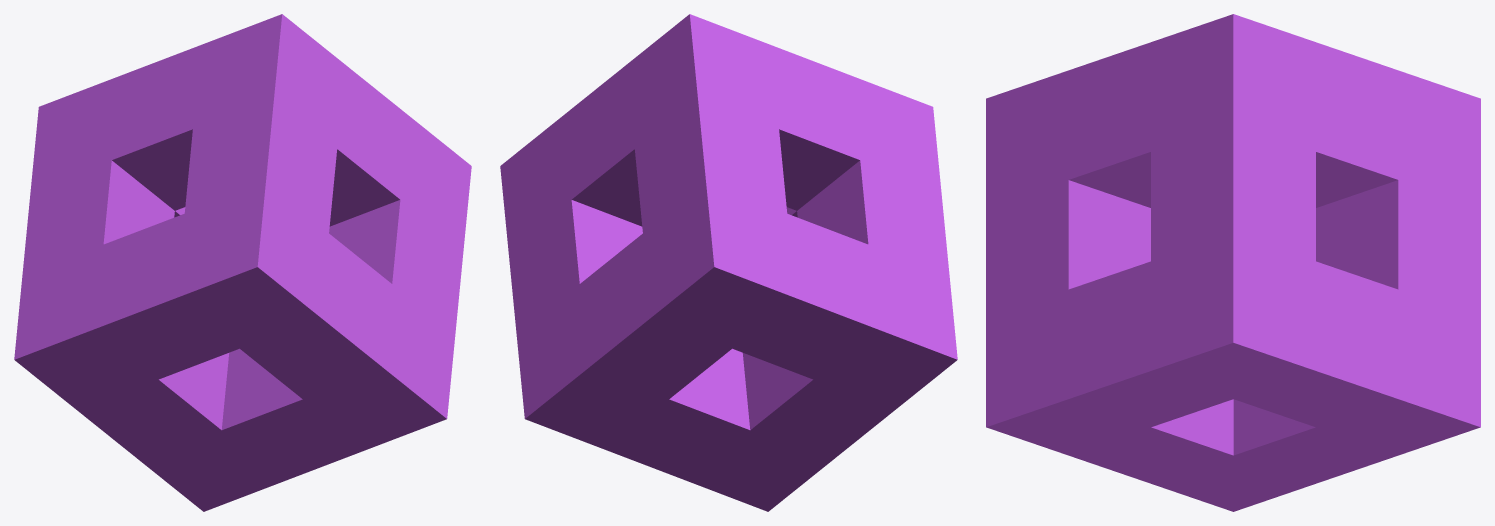
The model's file is spongeqube.gltf.
3 views of the same model, side by side, from view 1: azimuth 30°, elevation 25°; view 2: azimuth 150°, elevation 25°; view 3: azimuth 270°, elevation 25° (orthographic). The views are drawn at different scales.
Parts seen in each view (by area): view 1: Sponge; view 2: Sponge; view 3: Sponge.
Boxes of the visible parts, x1,y1,x2,y2 form: Sponge: [14, 14, 471, 511]; Sponge: [500, 14, 957, 511]; Sponge: [986, 14, 1480, 511].
Size of the model in its own units: 3.41 by 3.41 by 2.83.
